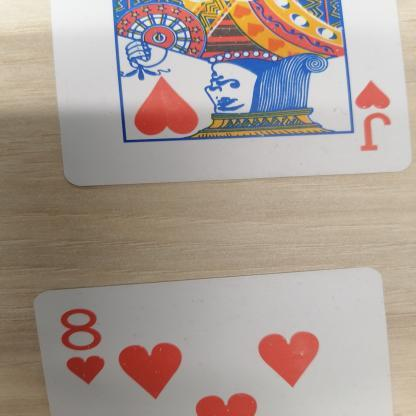8H: (56, 305, 120, 389)
JH: (355, 75, 407, 159)
